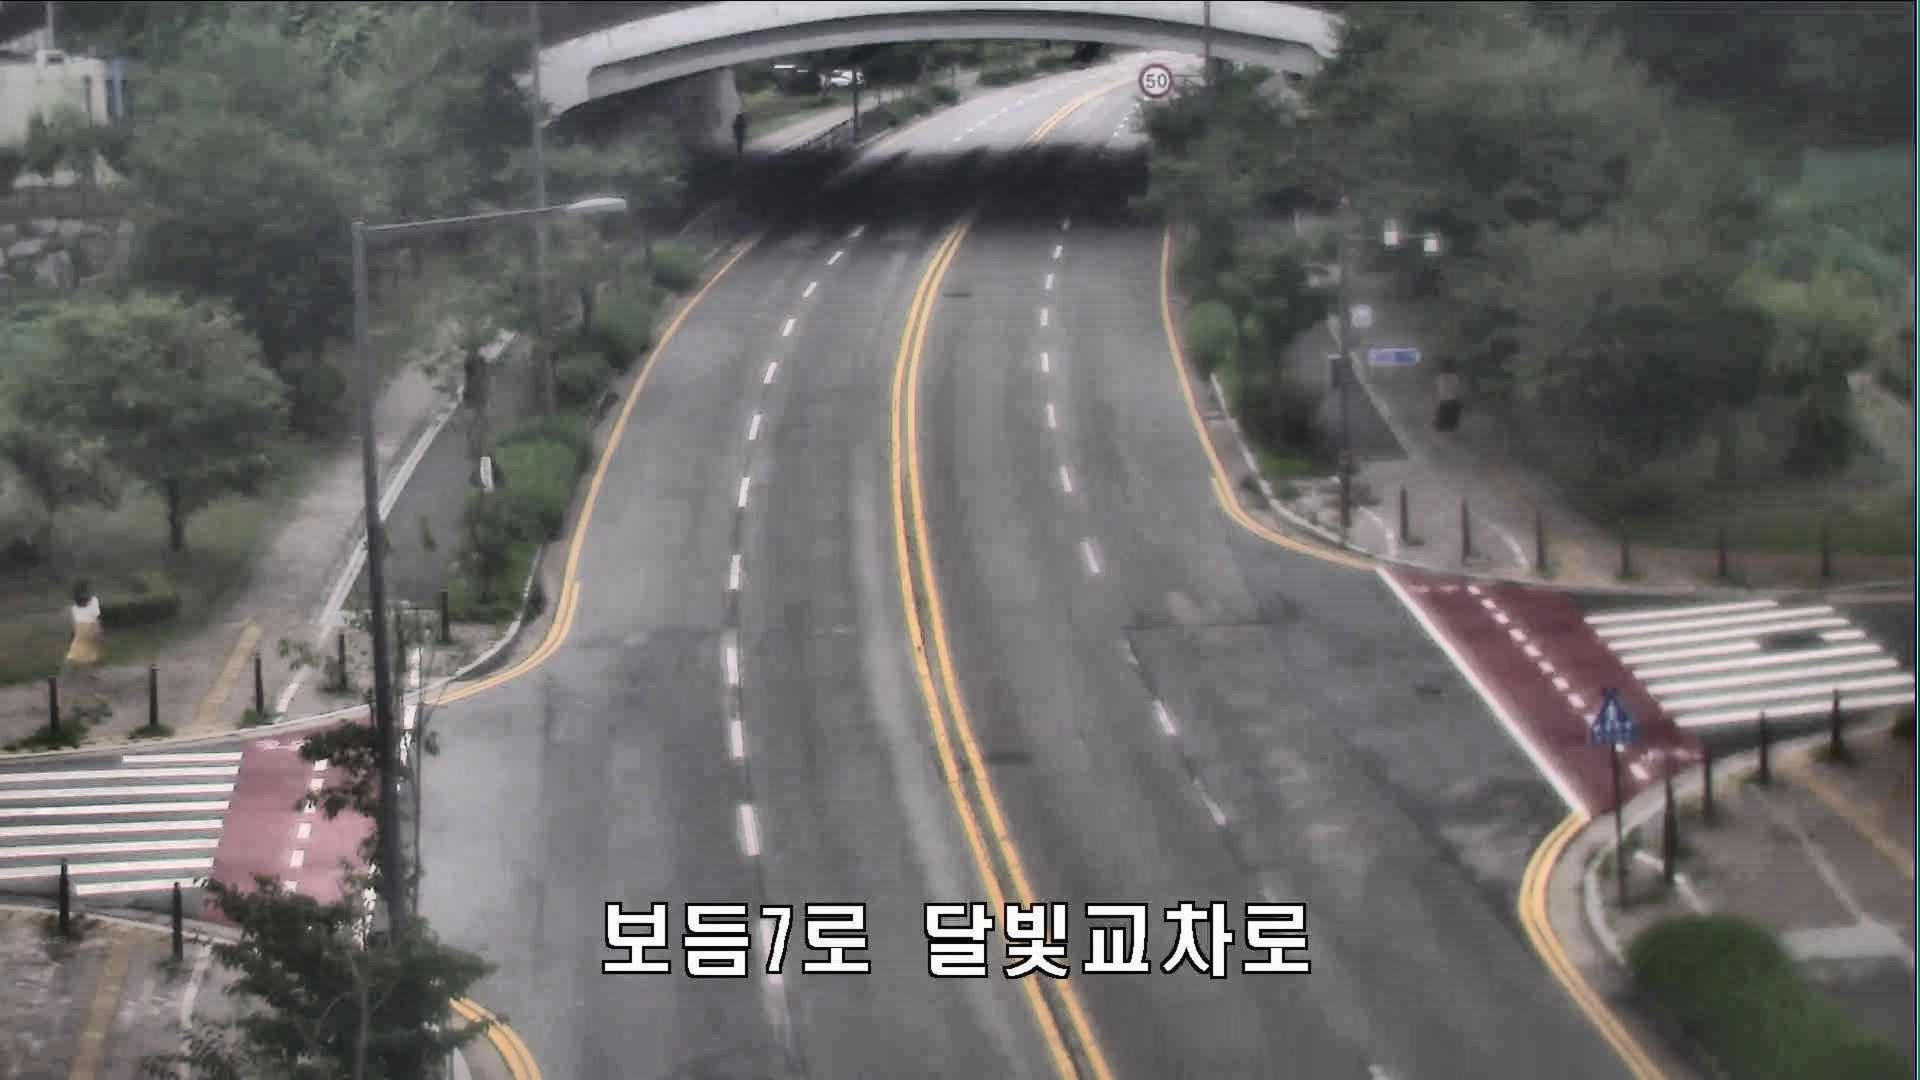sidewalk: (69, 575, 107, 676), (1429, 356, 1472, 447)
